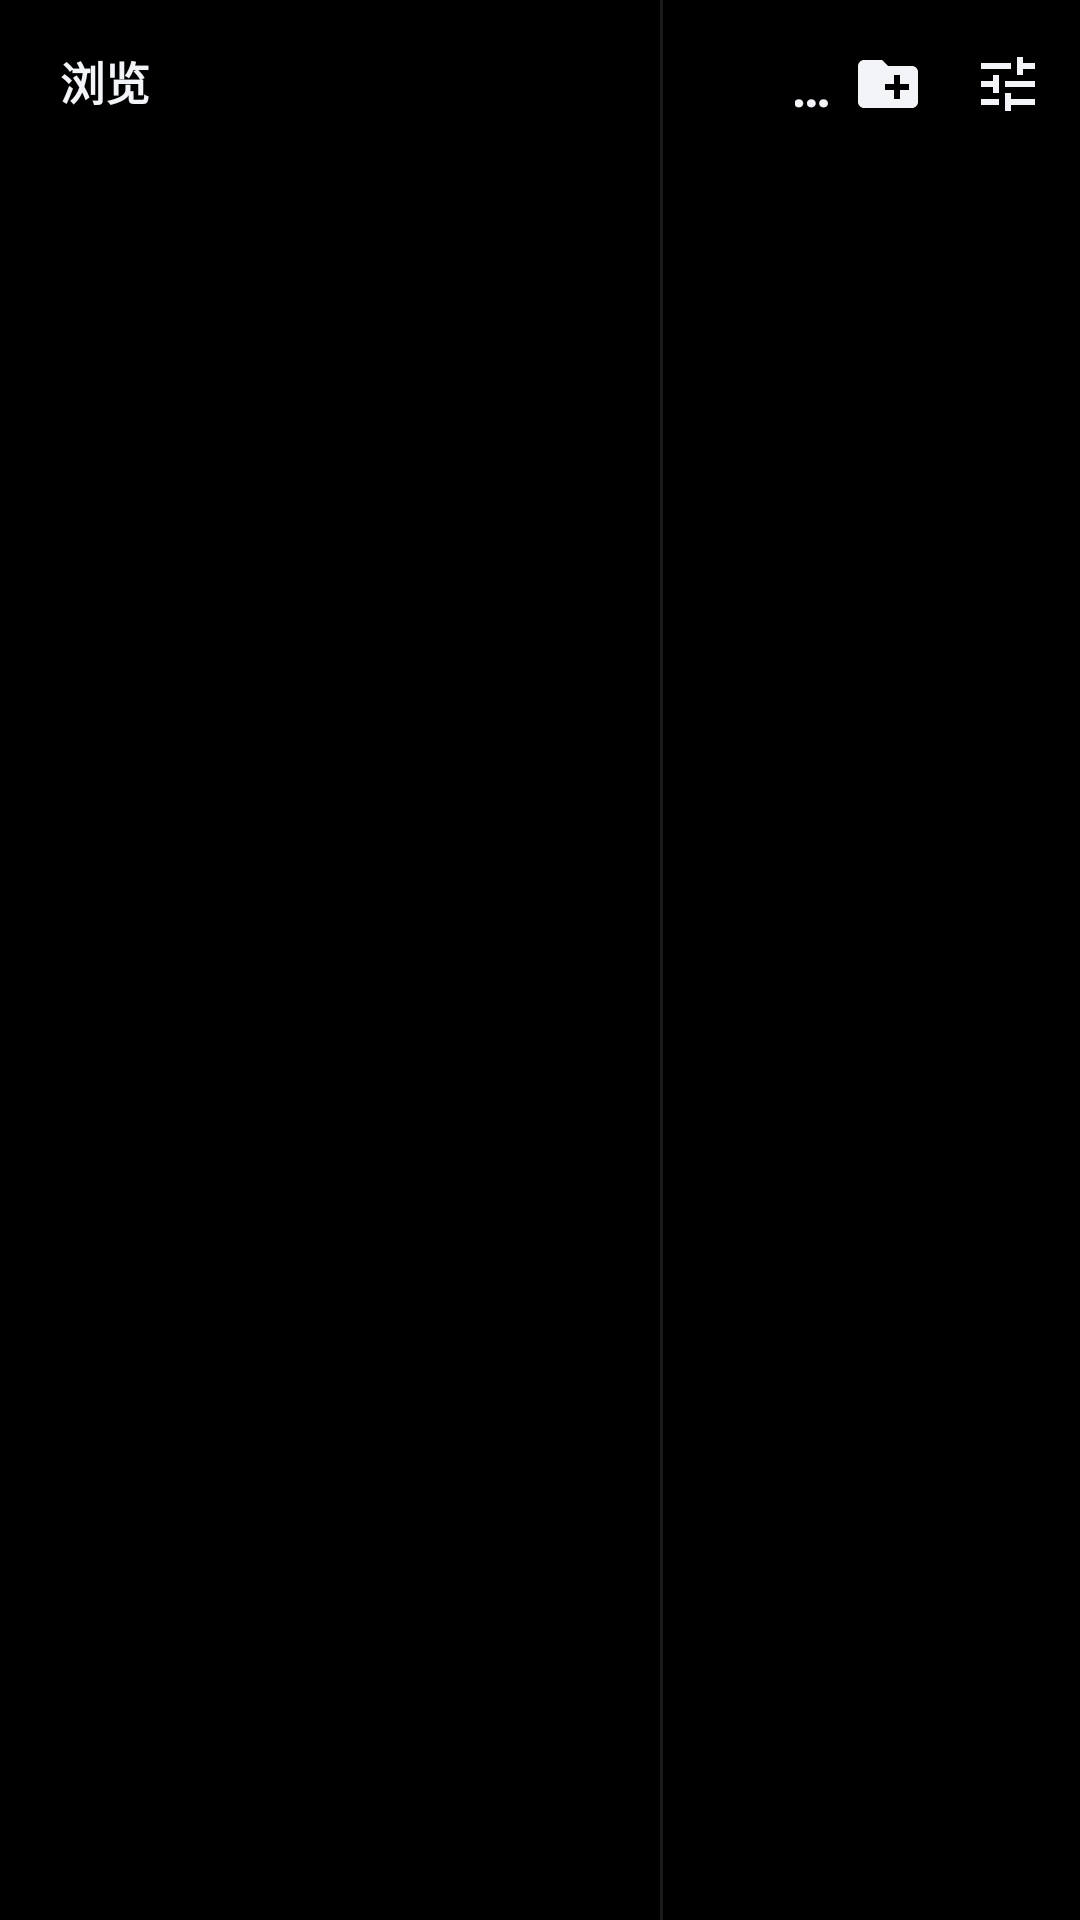

Icon click points for this 1080w x 1920h phone screenshot, format point (x, y):
排序与视图: point (1008, 84)
添加文件夹: point (888, 84)
